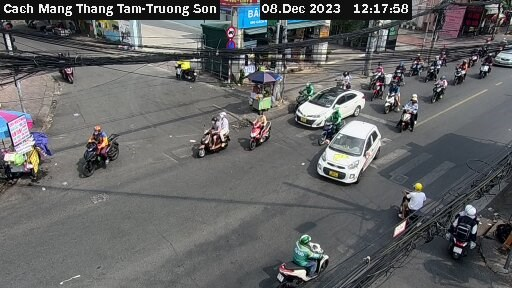car: (314, 120, 387, 186), (294, 87, 369, 124), (496, 38, 512, 66)
motorbike: (272, 237, 346, 282), (439, 203, 489, 263), (70, 128, 134, 170), (187, 114, 236, 155), (394, 177, 427, 229), (239, 111, 278, 153), (171, 49, 207, 94), (43, 50, 84, 83), (398, 91, 431, 132), (384, 85, 410, 116), (421, 76, 452, 97), (444, 60, 471, 81), (293, 80, 316, 102), (333, 70, 360, 87), (368, 61, 392, 79), (476, 55, 494, 74)
